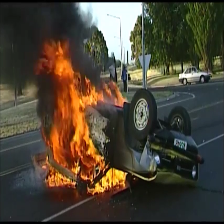fire_h: (36, 36, 108, 181), (87, 168, 128, 195), (103, 81, 125, 108), (45, 168, 76, 187)
fire_l: (41, 156, 55, 172)
